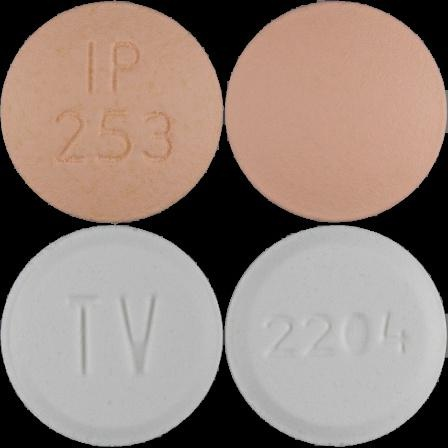68151-1610: (0, 0, 224, 224)
